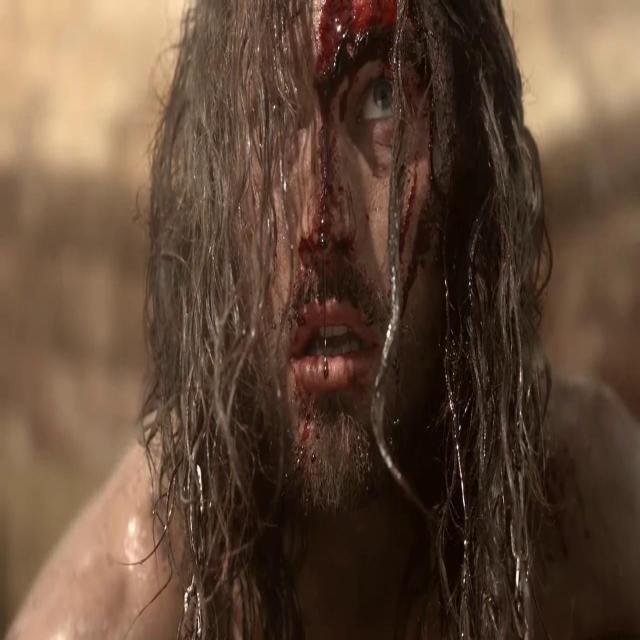flood: (312, 0, 408, 94)
